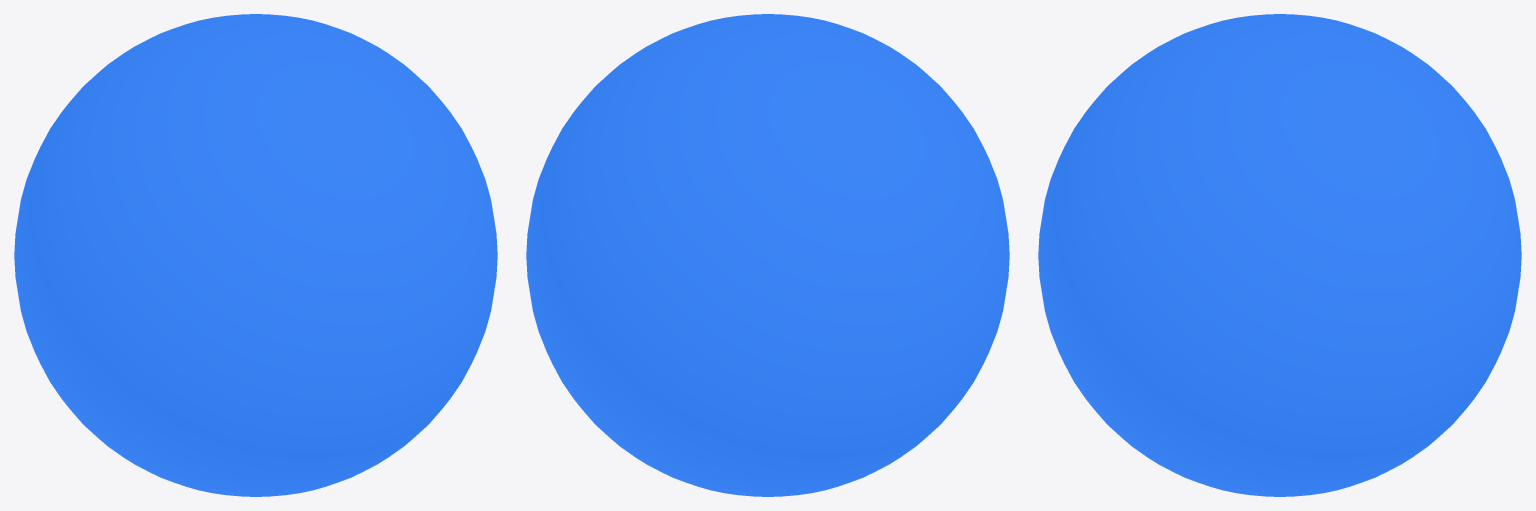
Rendered from earth.glb.
3 views of the same model, side by side, from view 1: azimuth 30°, elevation 25°; view 2: azimuth 150°, elevation 25°; view 3: azimuth 270°, elevation 25° (orthographic).
Visible parts, largest first — view 1: Earth_Atmosphere; view 2: Earth_Atmosphere; view 3: Earth_Atmosphere.
Boxes of the visible parts, left/top/right/bottom form: Earth_Atmosphere: left=14, top=14, right=497, bottom=496; Earth_Atmosphere: left=526, top=14, right=1009, bottom=496; Earth_Atmosphere: left=1038, top=14, right=1521, bottom=496.
Size of the model in its own units: 2.07 by 2.07 by 2.07.
